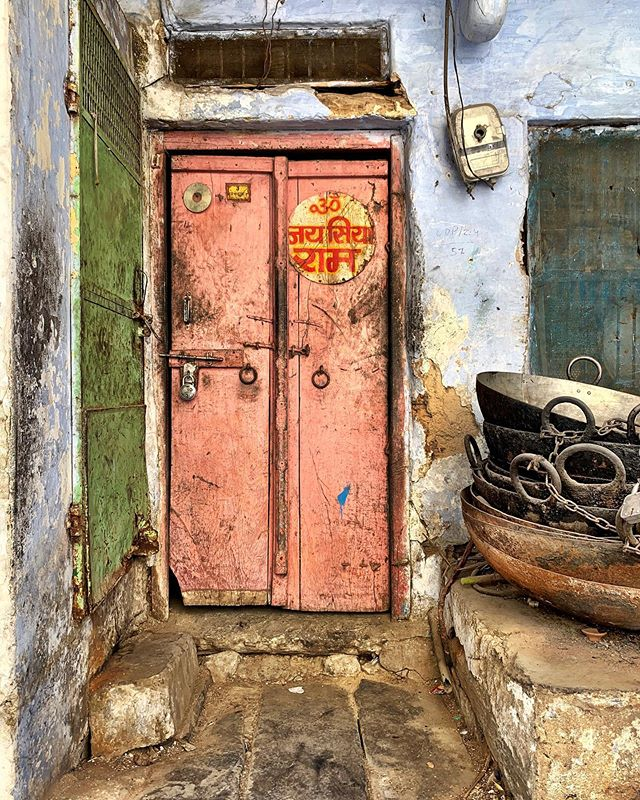door: (166, 158, 395, 607)
lock: (173, 365, 200, 410)
sign: (276, 178, 378, 304)
